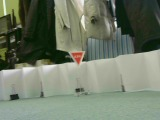stop: (69, 51, 86, 67)
